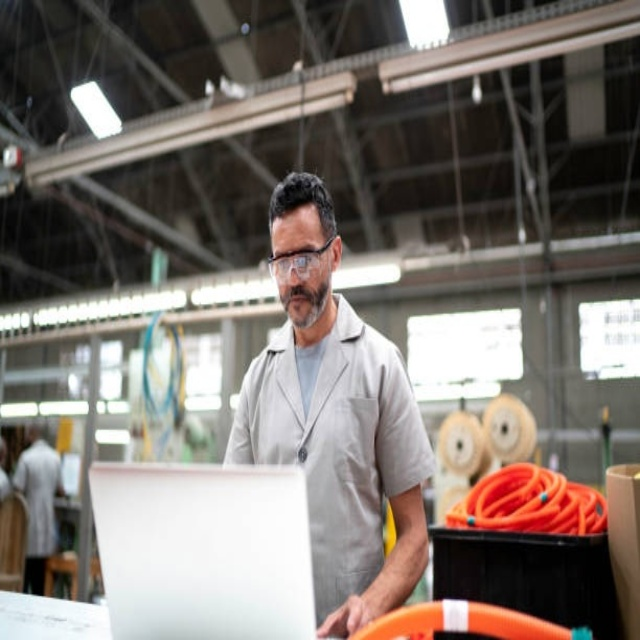Gafas: (268, 236, 337, 281)
Sin_guantes: (315, 595, 368, 640)
Sin_mascara: (282, 289, 314, 322)
